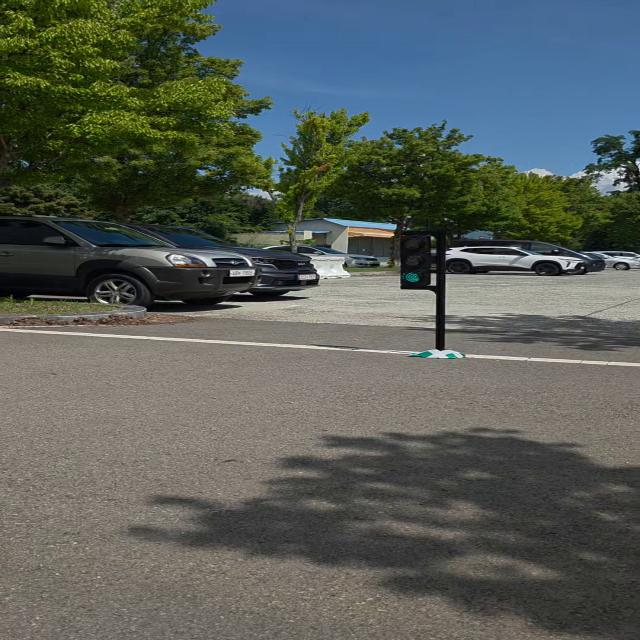green: (394, 231, 437, 288)
